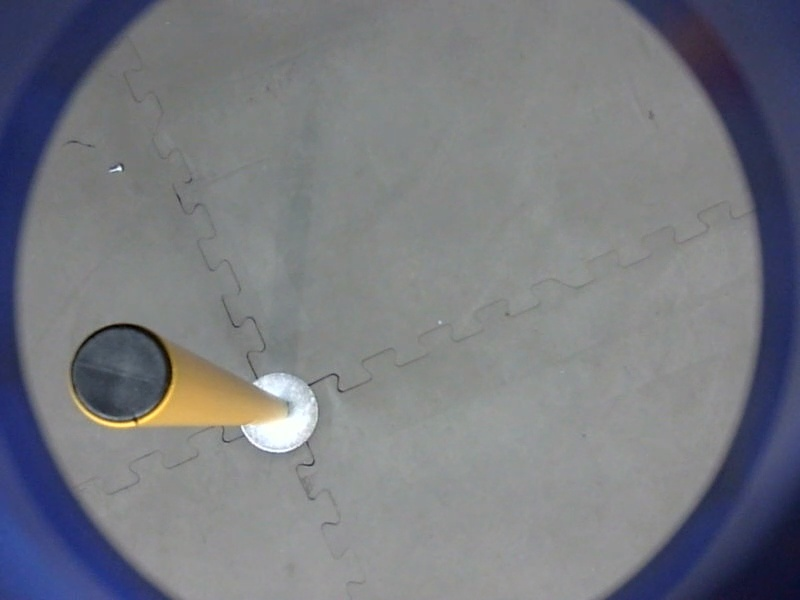tip: (59, 312, 184, 434)
